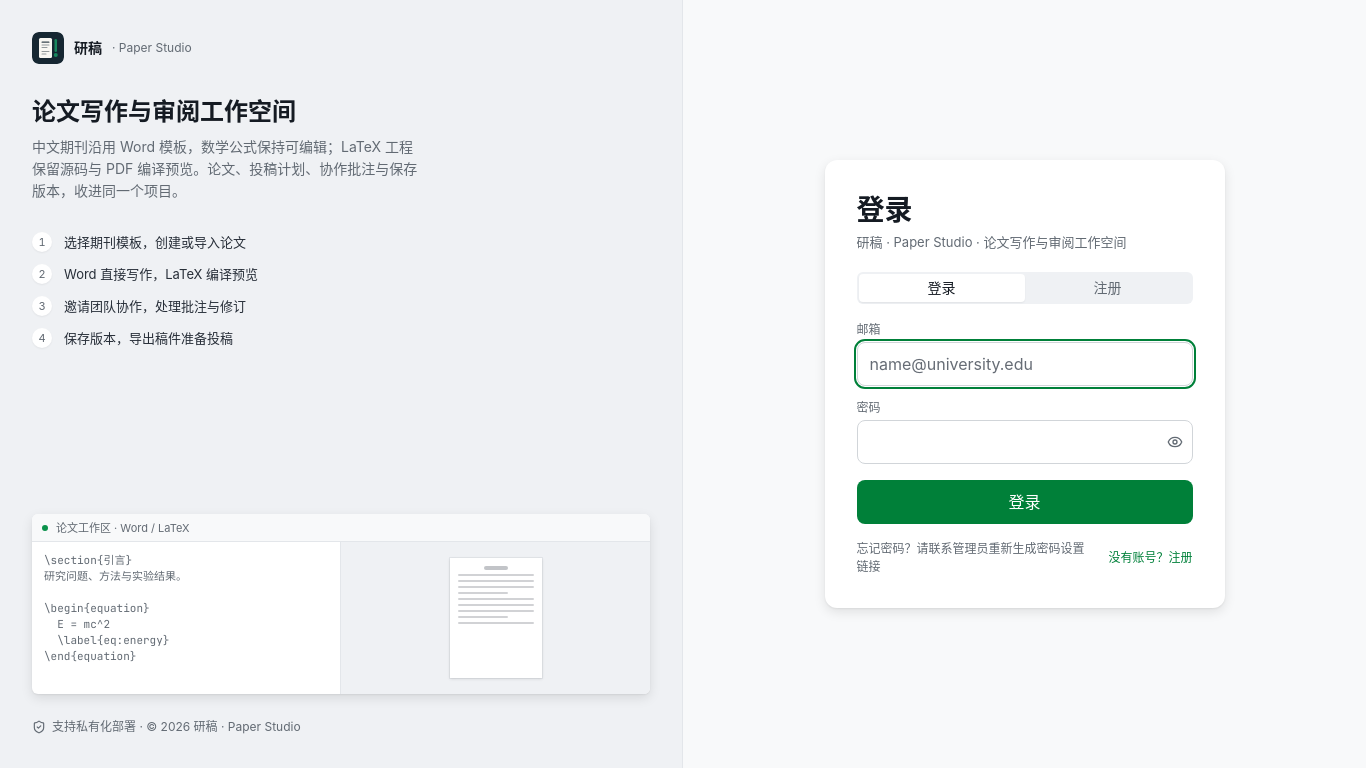
LoginPage（07 §7.1） › 注册管控：closed 禁用注册；invite_only 展示邀请码并透传；allowedDomains 显示提示
The image size is (1366, 768).
Earlier steps of the test are not shown.
Later steps or results of the test are not shown.
Click the radio button with test id "login-tab-register": (1108, 288) [1024,274,1190,302]
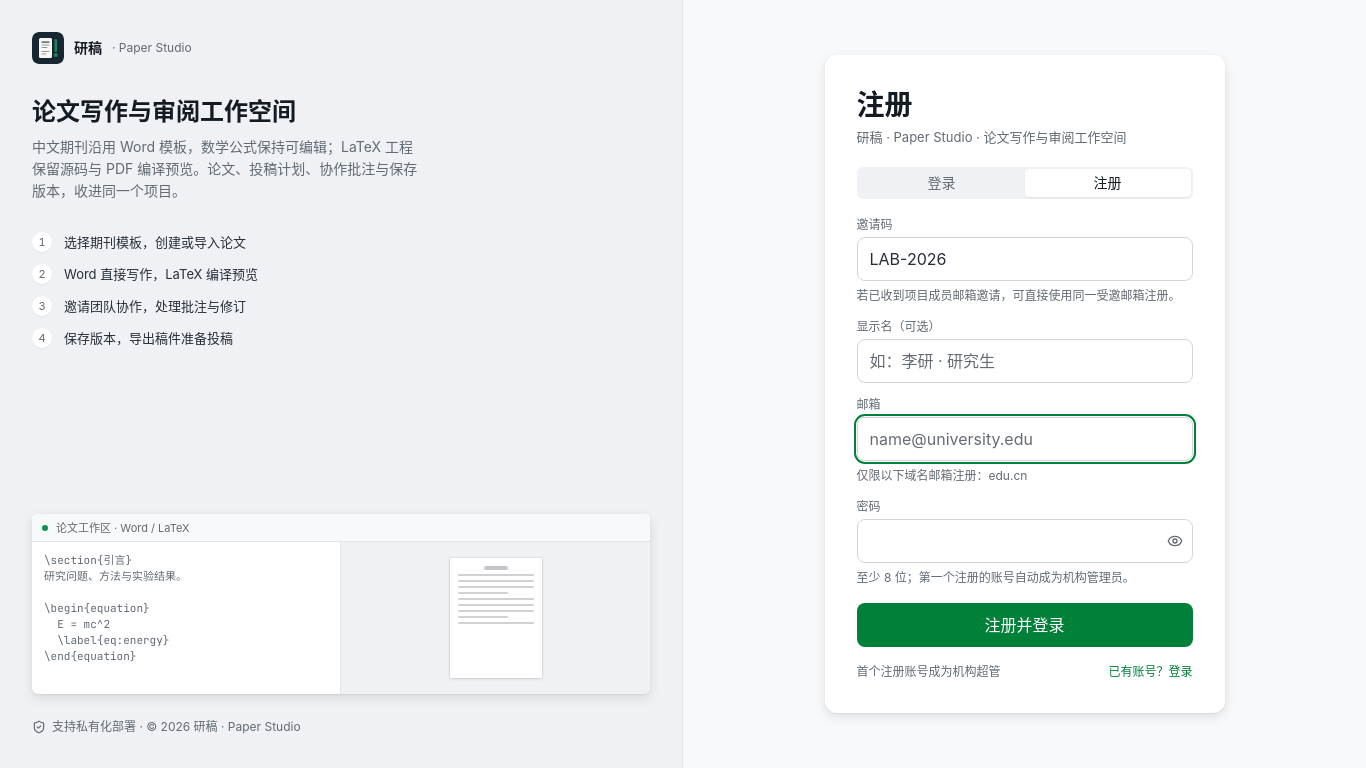
Expected: the text with test id "login-allowed-domains" shows "edu.cn", [988,468,1027,483]
